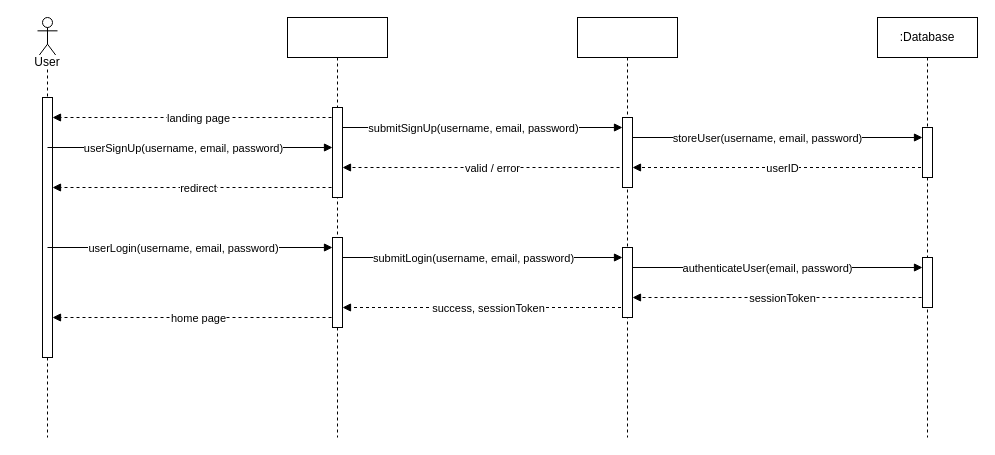
Image size: 995x455. Some labels were removed from this diagram. Each missing label, with the centre of its shape:
":Controller" goes at point 627,227.
":UIInterface" goes at point 337,227.
